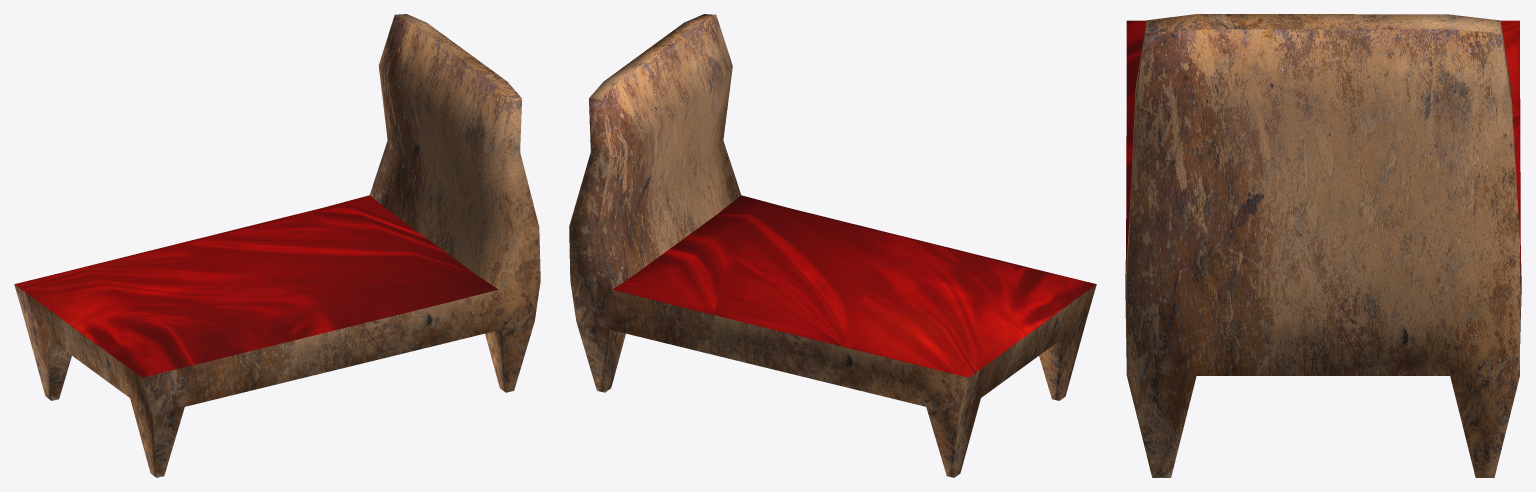
The model's file is Bed.FBX.
The picture shows the model from 3 angles, left to right: view 1: azimuth 30°, elevation 25°; view 2: azimuth 150°, elevation 25°; view 3: azimuth 270°, elevation 25°; orthographic projection. The views are drawn at different scales.
Parts seen in each view (by area): view 1: Box002; view 2: Box002; view 3: Box002.
Part boxes in pixels (x1,y1,x2,y2): Box002: (14, 14, 540, 477); Box002: (569, 14, 1096, 477); Box002: (1125, 14, 1521, 477).
Bounding box in the file's own units: 206 × 145 × 113.
